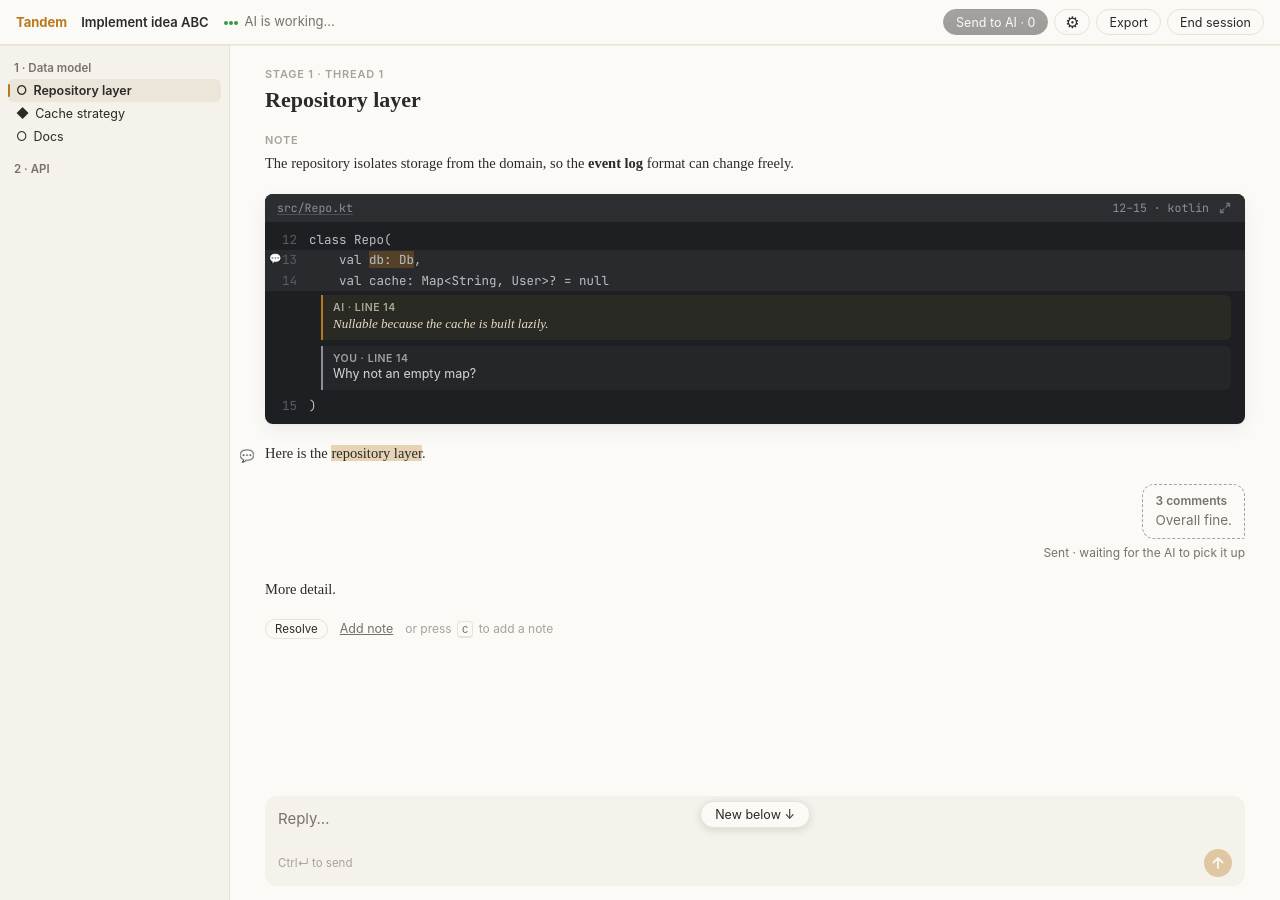
Test case: SessionPage follows new content (F12b-2) › shows a "New below" pill instead of scrolling when the user is scrolled up, and clears it on click
Click the button "New below ↓". click: (755, 814)
box: left=700, top=801, right=810, bottom=828
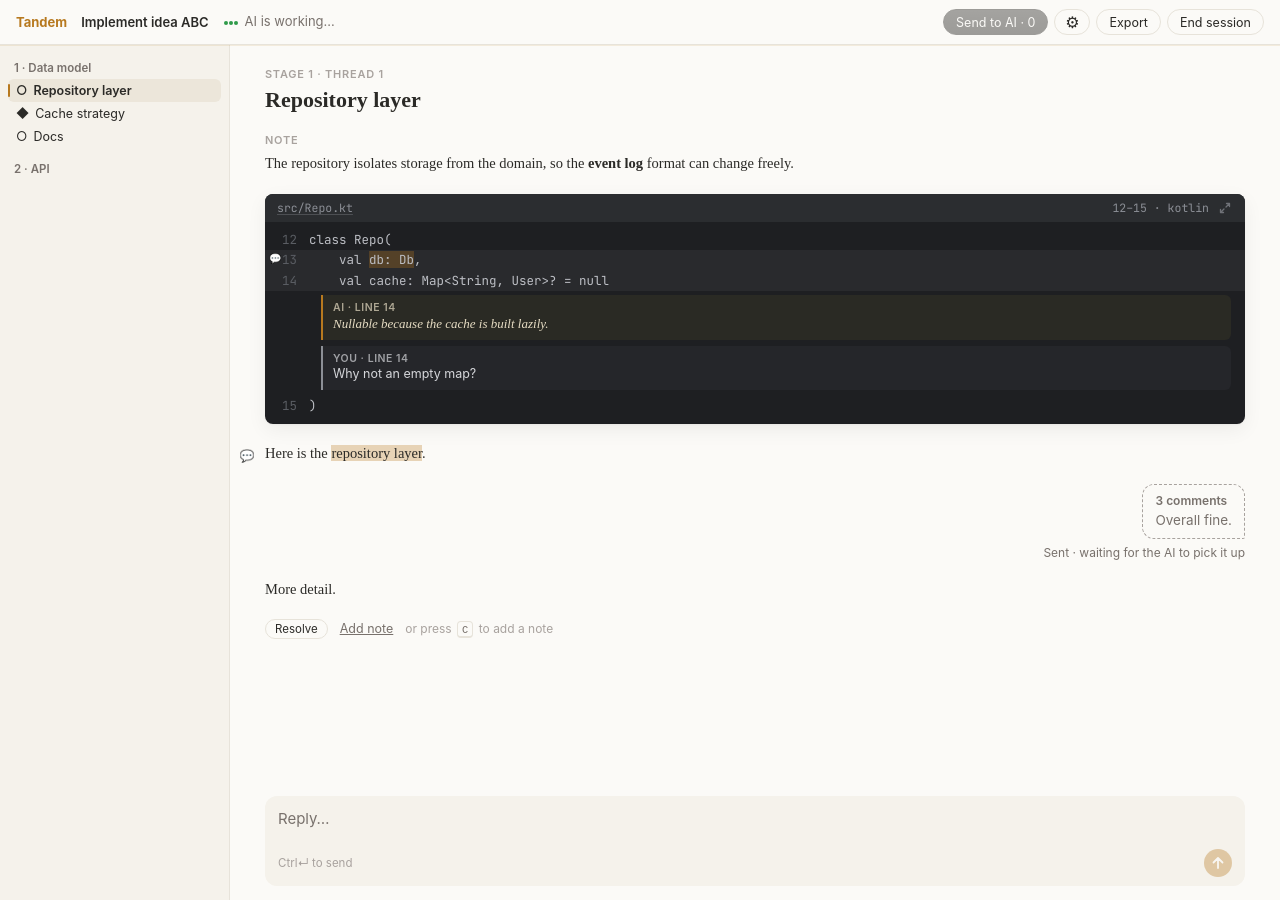
expect the button "New below" is gone: met
